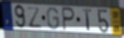5: (96, 8, 110, 34)
9: (13, 4, 27, 30)
G: (46, 7, 60, 31)
P: (61, 6, 76, 32)
T: (81, 9, 93, 33)
Z: (26, 7, 43, 30)
